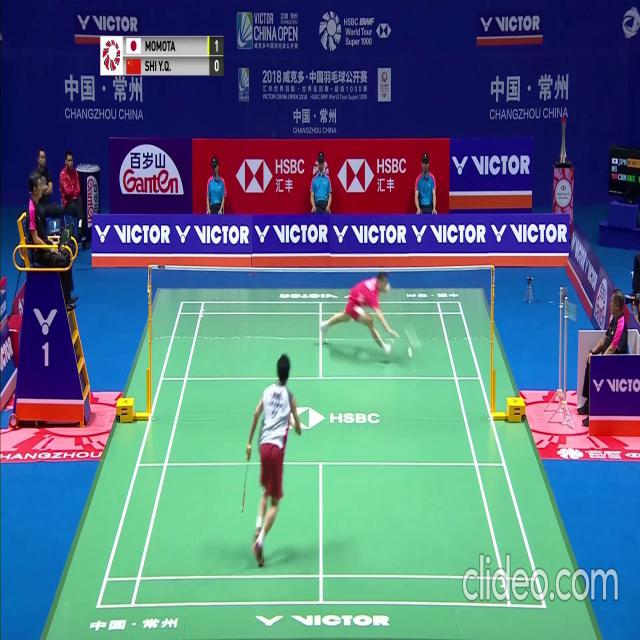Shuttlecock: (408, 349, 413, 356)
